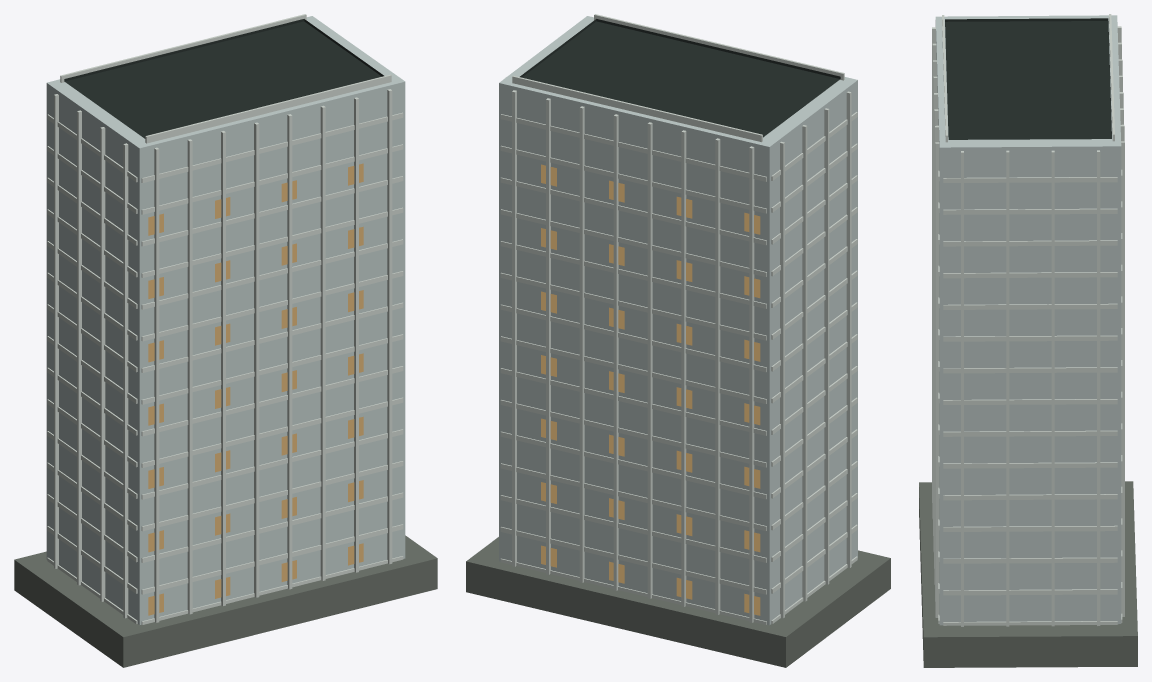
Rendered from bupt-tower.glb.
3 renders of one model, left to right at view 1: azimuth 30°, elevation 25°; view 2: azimuth 150°, elevation 25°; view 3: azimuth 270°, elevation 25°, orthographic.
Parts seen in each view (by area): view 1: envelope, fins, floor_bands, roof_deck, podium, night_windows, parapet; view 2: envelope, fins, floor_bands, roof_deck, podium, night_windows, parapet; view 3: envelope, roof_deck, floor_bands, fins, podium, parapet.
Part boxes in pixels (x1,y1,x2,y2): envelope: (46, 16, 405, 625); fins: (54, 89, 392, 622); floor_bands: (47, 112, 403, 624); roof_deck: (64, 19, 383, 138); podium: (14, 535, 437, 667); night_windows: (148, 163, 363, 615); parapet: (60, 14, 391, 143); envelope: (499, 16, 857, 625); fins: (505, 60, 851, 622); floor_bands: (500, 112, 857, 624); roof_deck: (520, 19, 840, 137); podium: (466, 537, 890, 667); night_windows: (541, 164, 760, 615); parapet: (512, 14, 844, 142); envelope: (935, 15, 1121, 625); roof_deck: (945, 18, 1111, 139); floor_bands: (938, 169, 1122, 625); fins: (932, 26, 1124, 626); podium: (919, 481, 1137, 667); parapet: (942, 14, 1114, 142).
Size of the model in its own units: 65.25 by 100 by 38.71.
